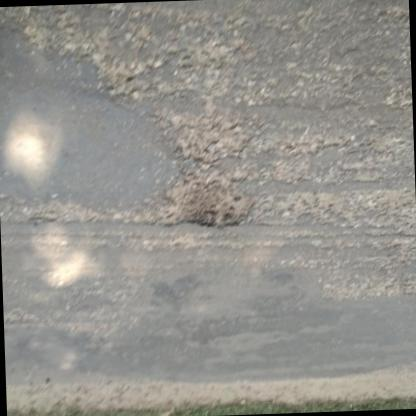pothole: (158, 168, 256, 235)
